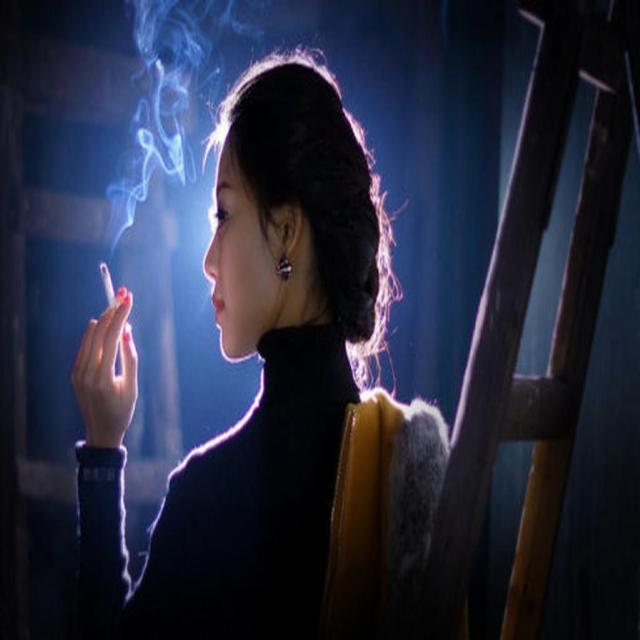smoking: (76, 54, 389, 392)
